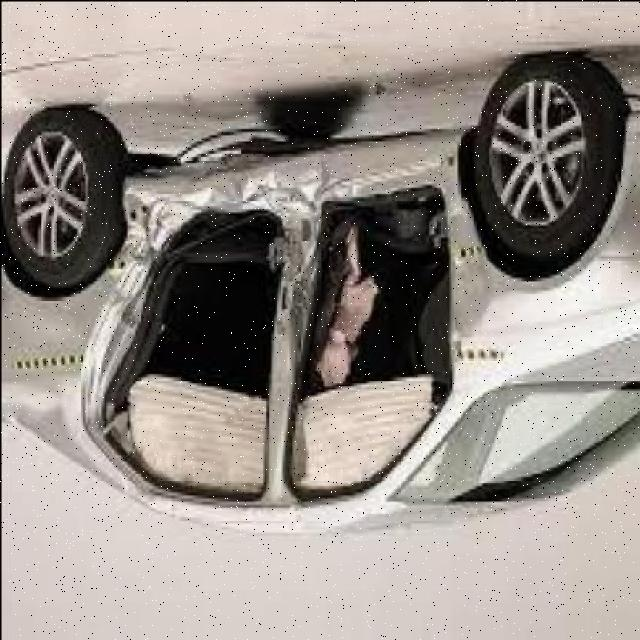damage: (71, 146, 476, 517)
